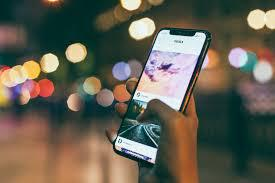Hand: (110, 83, 206, 183)
Smartphone: (116, 32, 216, 158)
